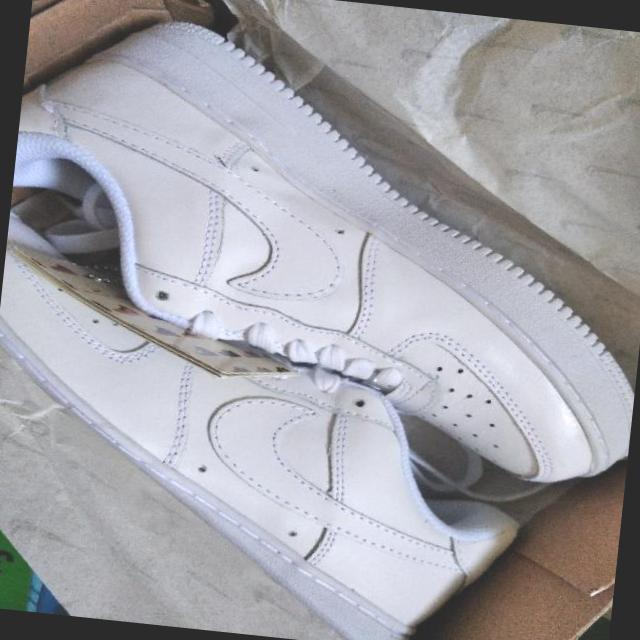nike_fake_airforce: (0, 0, 640, 490), (0, 234, 555, 640)
